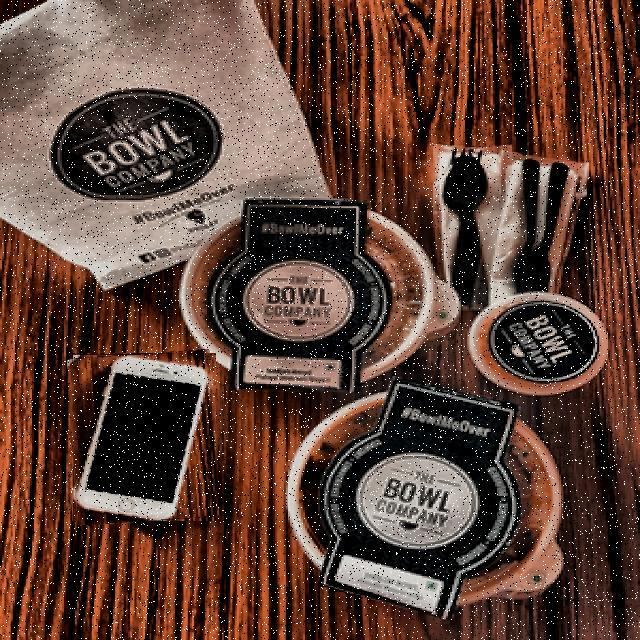Phone: (70, 351, 218, 524)
